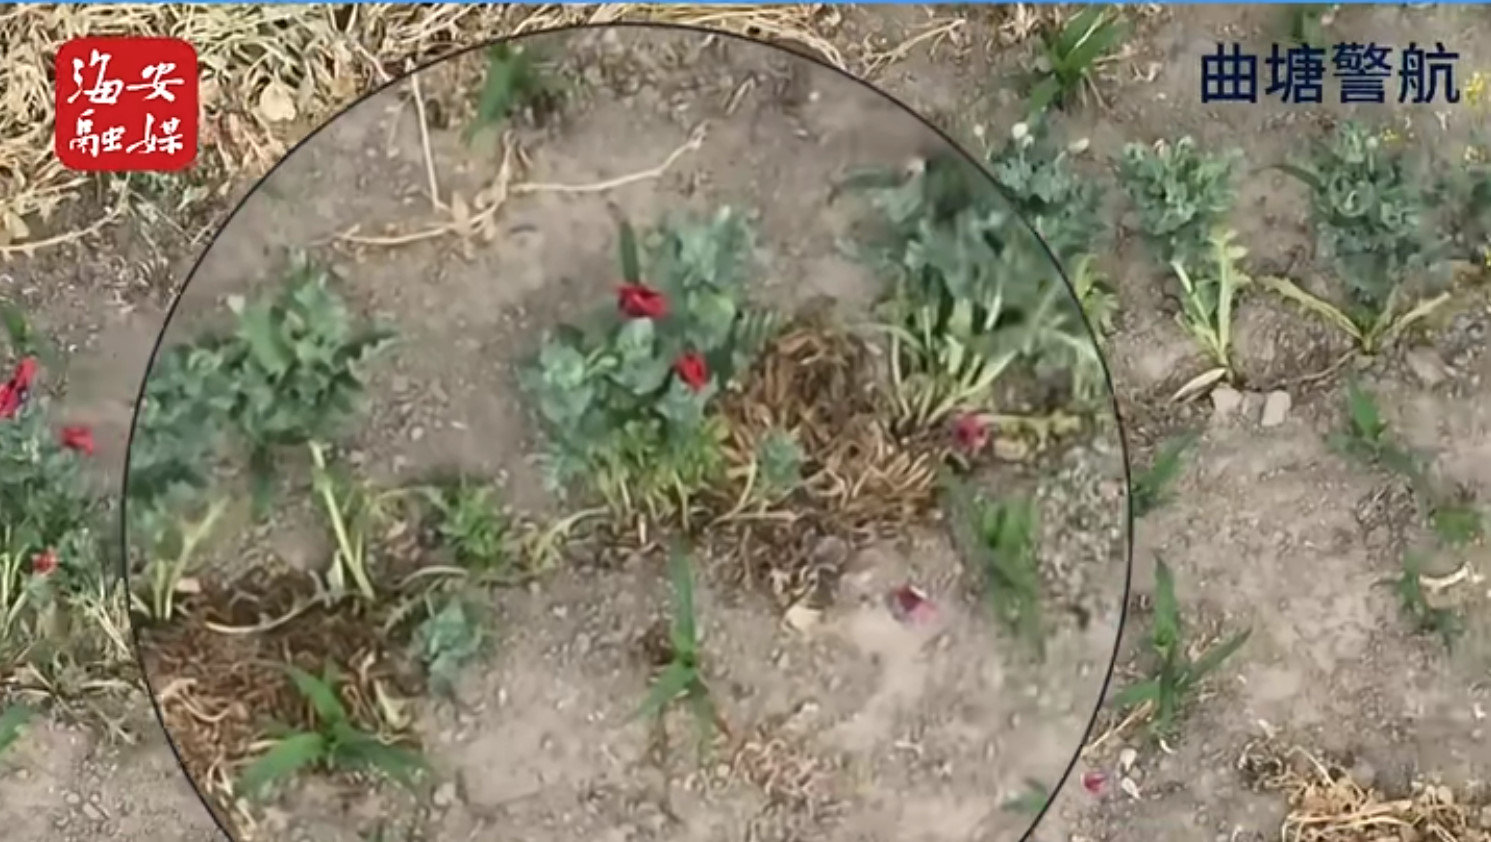Poppy: (830, 122, 1123, 450), (497, 198, 780, 518), (128, 257, 404, 562), (1276, 108, 1459, 370), (1, 301, 121, 660), (1113, 119, 1272, 387)
